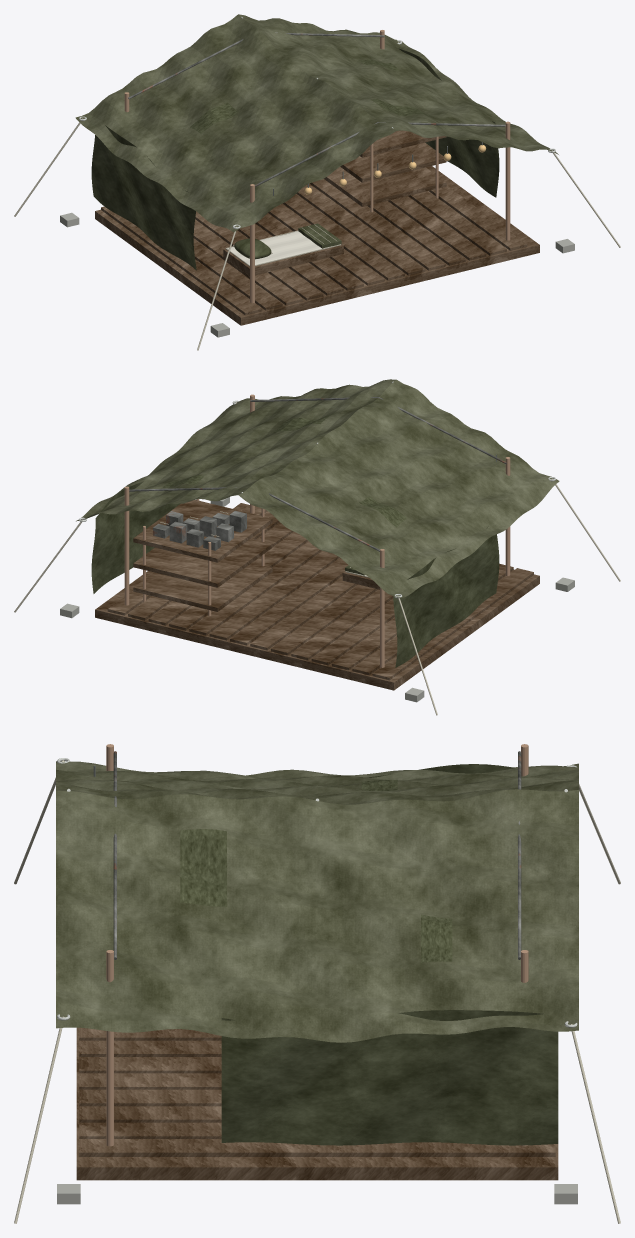
File: afterday_shelter_pbr.glb
3 views of the same model, one above another, from view 1: azimuth 30°, elevation 25°; view 2: azimuth 150°, elevation 25°; view 3: azimuth 270°, elevation 25° (orthographic). The views are drawn at different scales.
Visible parts, largest first — view 1: tensioned rainproof canopy_23, elevated timber pallet floor_0, vertical rain curtain_39, storage shelf_56, vertical rain curtain_40, pallet slat_9, pallet slat_10, storage shelf_57, pallet slat_8, pallet slat_1, pallet slat_12, pallet slat_13 (+16 smaller); view 2: tensioned rainproof canopy_23, elevated timber pallet floor_0, vertical rain curtain_39, vertical rain curtain_40, storage shelf_57, storage shelf_56, storage shelf_58, pallet slat_9, pallet slat_10, pallet slat_8, pallet slat_7, pallet slat_6 (+12 smaller); view 3: tensioned rainproof canopy_23, vertical rain curtain_40, elevated timber pallet floor_0, pallet slat_14, sewn tarp repair patch_49, pallet slat_11, pallet slat_10, pallet slat_12, pallet slat_8, pallet slat_9, pallet slat_13, sewn tarp repair patch_50 (+5 smaller).
Boxes of the visible parts, x1,y1,x2,y2 form: tensioned rainproof canopy_23: (75, 14, 558, 232); elevated timber pallet floor_0: (95, 166, 539, 325); vertical rain curtain_39: (91, 125, 196, 270); storage shelf_56: (324, 167, 446, 206); vertical rain curtain_40: (398, 48, 499, 197); pallet slat_9: (296, 184, 425, 275); pallet slat_10: (310, 179, 445, 270); storage shelf_57: (340, 142, 446, 182); pallet slat_8: (283, 194, 404, 280); pallet slat_1: (101, 206, 262, 315); pallet slat_12: (388, 196, 486, 260); pallet slat_13: (408, 191, 506, 255); tensioned rainproof canopy_23: (76, 379, 559, 598); elevated timber pallet floor_0: (95, 503, 539, 690); vertical rain curtain_39: (393, 526, 499, 667); vertical rain curtain_40: (91, 445, 197, 593); storage shelf_57: (133, 538, 272, 587); storage shelf_56: (133, 563, 272, 611); storage shelf_58: (133, 500, 272, 562); pallet slat_9: (209, 551, 339, 640); pallet slat_10: (189, 541, 321, 635); pallet slat_8: (230, 558, 348, 645); pallet slat_7: (250, 576, 357, 650); pallet slat_6: (271, 584, 377, 655); tensioned rainproof canopy_23: (56, 761, 578, 1042); vertical rain curtain_40: (221, 1010, 558, 1145); elevated timber pallet floor_0: (76, 1027, 558, 1180); pallet slat_14: (79, 1139, 555, 1156); sewn tarp repair patch_49: (180, 829, 226, 906); pallet slat_11: (79, 1089, 221, 1106); pallet slat_10: (79, 1073, 221, 1089); pallet slat_12: (79, 1106, 221, 1122); pallet slat_8: (79, 1040, 221, 1056); pallet slat_9: (79, 1057, 221, 1073); pallet slat_13: (79, 1122, 221, 1138); sewn tarp repair patch_50: (421, 914, 452, 962).
Size of the model in its own units: 15.59 by 5.79 by 11.72.
Materials: 14 (5 with a texture image).
